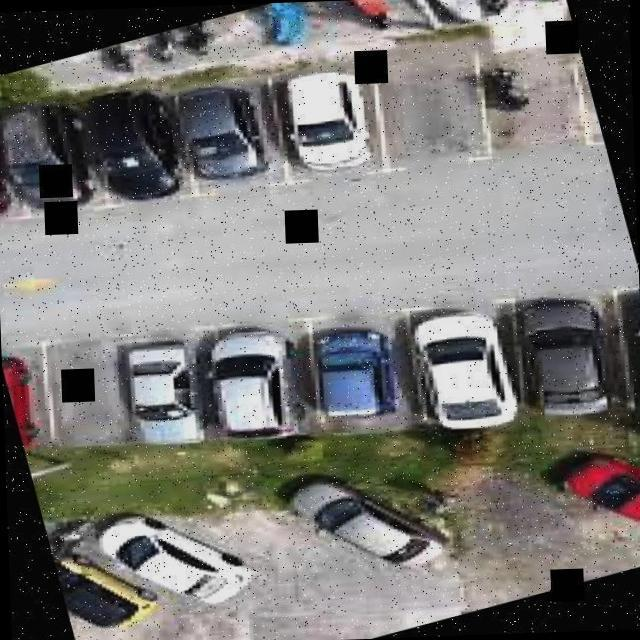space-empty: (340, 21, 526, 193), (432, 0, 606, 181), (16, 316, 167, 468), (532, 11, 614, 188)
space-occupied: (478, 267, 640, 448), (387, 278, 550, 452), (176, 294, 339, 464), (294, 294, 448, 452), (152, 60, 301, 216), (258, 38, 398, 194), (60, 72, 202, 225), (99, 312, 240, 465), (0, 81, 113, 232)
